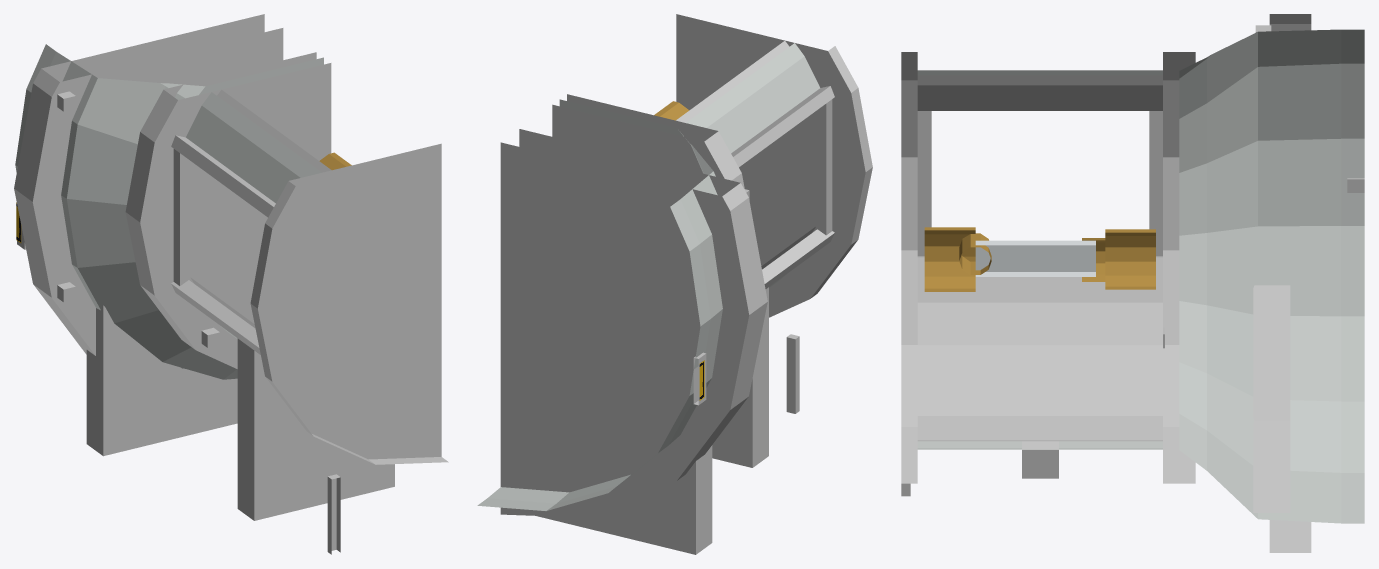
File: cell_40.obj
3 views of the same model, side by side, from view 1: azimuth 30°, elevation 25°; view 2: azimuth 150°, elevation 25°; view 3: azimuth 270°, elevation 25° (orthographic). The views are drawn at different scales.
Bounding box in the file's own units: 0.695 × 1 × 1.
